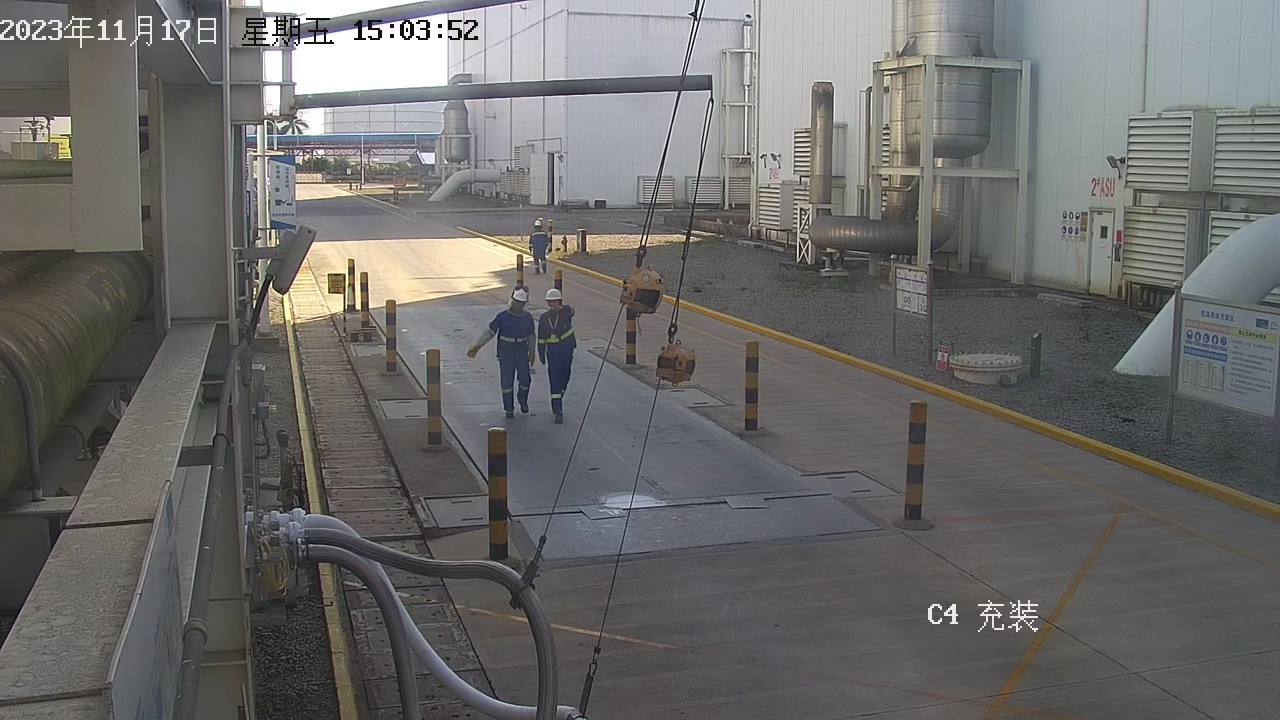Head_with_Helmet: (532, 277, 580, 315), (490, 280, 540, 315), (524, 214, 549, 236)
Uniform: (460, 301, 543, 409), (529, 305, 594, 426), (524, 228, 560, 276)
